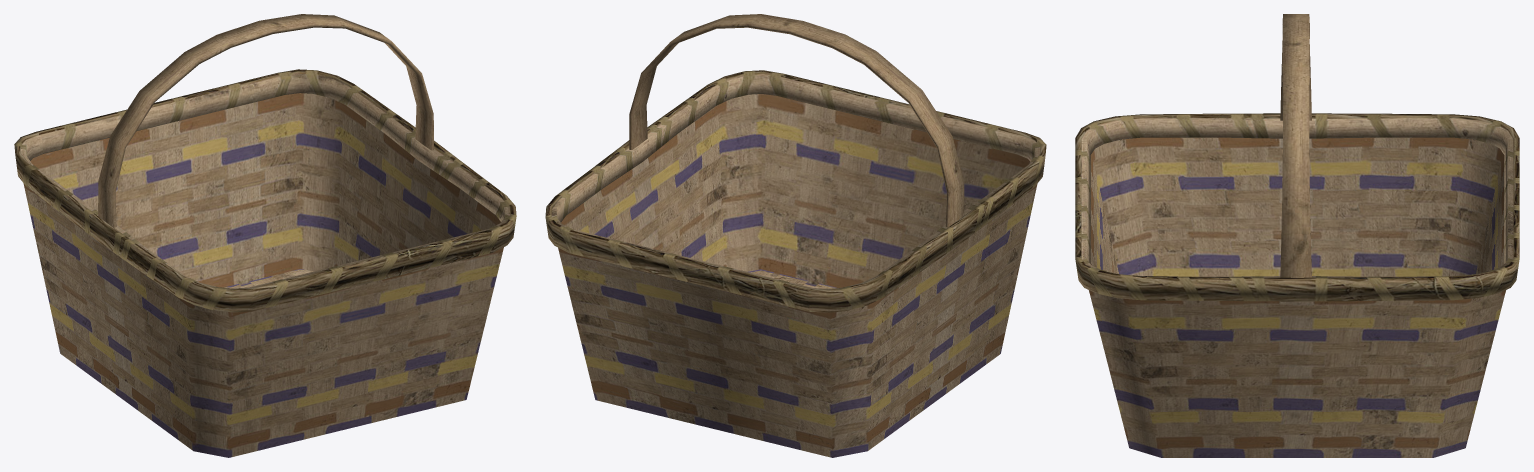
3 views of the same model, side by side, from view 1: azimuth 30°, elevation 25°; view 2: azimuth 150°, elevation 25°; view 3: azimuth 270°, elevation 25° (orthographic). The views are drawn at different scales.
Visible parts, largest first — view 1: ZBrush_defualt_group001, ZBrush_defualt_group002, RetopoGroup1, RetopoGroup002; view 2: ZBrush_defualt_group001, ZBrush_defualt_group002, RetopoGroup1, RetopoGroup002; view 3: ZBrush_defualt_group001, ZBrush_defualt_group002, RetopoGroup1, RetopoGroup002.
Part boxes in pixels (x1,y1,x2,y2): ZBrush_defualt_group001: (23, 93, 503, 457); ZBrush_defualt_group002: (30, 93, 500, 287); RetopoGroup1: (14, 69, 516, 312); RetopoGroup002: (98, 14, 433, 227); ZBrush_defualt_group001: (558, 94, 1037, 457); ZBrush_defualt_group002: (561, 94, 1030, 287); RetopoGroup1: (545, 70, 1046, 312); RetopoGroup002: (629, 14, 964, 227); ZBrush_defualt_group001: (1089, 137, 1505, 457); ZBrush_defualt_group002: (1091, 138, 1503, 276); RetopoGroup1: (1075, 113, 1519, 301); RetopoGroup002: (1280, 14, 1311, 277).
Size of the model in its own units: 3.99 by 3.92 by 4.5.
1 material, 1 textured.
